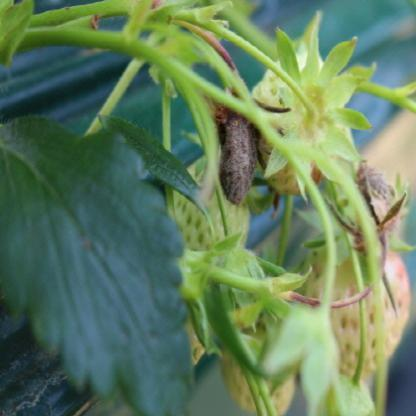Strawberry_Gray_Mold: (325, 158, 407, 254), (209, 85, 268, 206)
